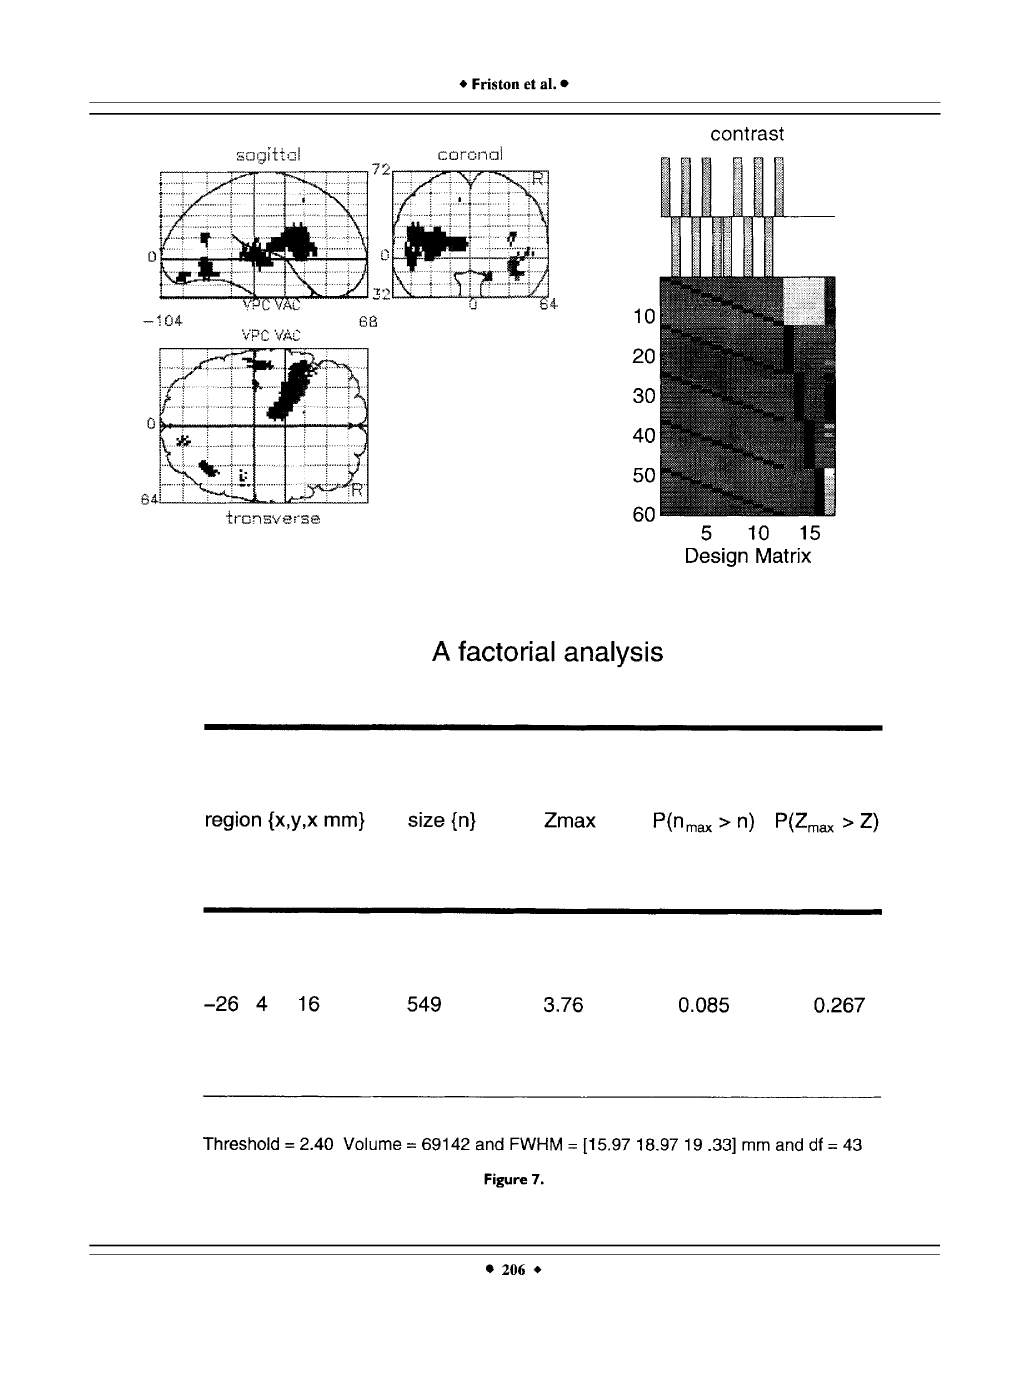Table: (202, 724, 882, 1097)
figure: (141, 146, 557, 523), (632, 127, 835, 566)
